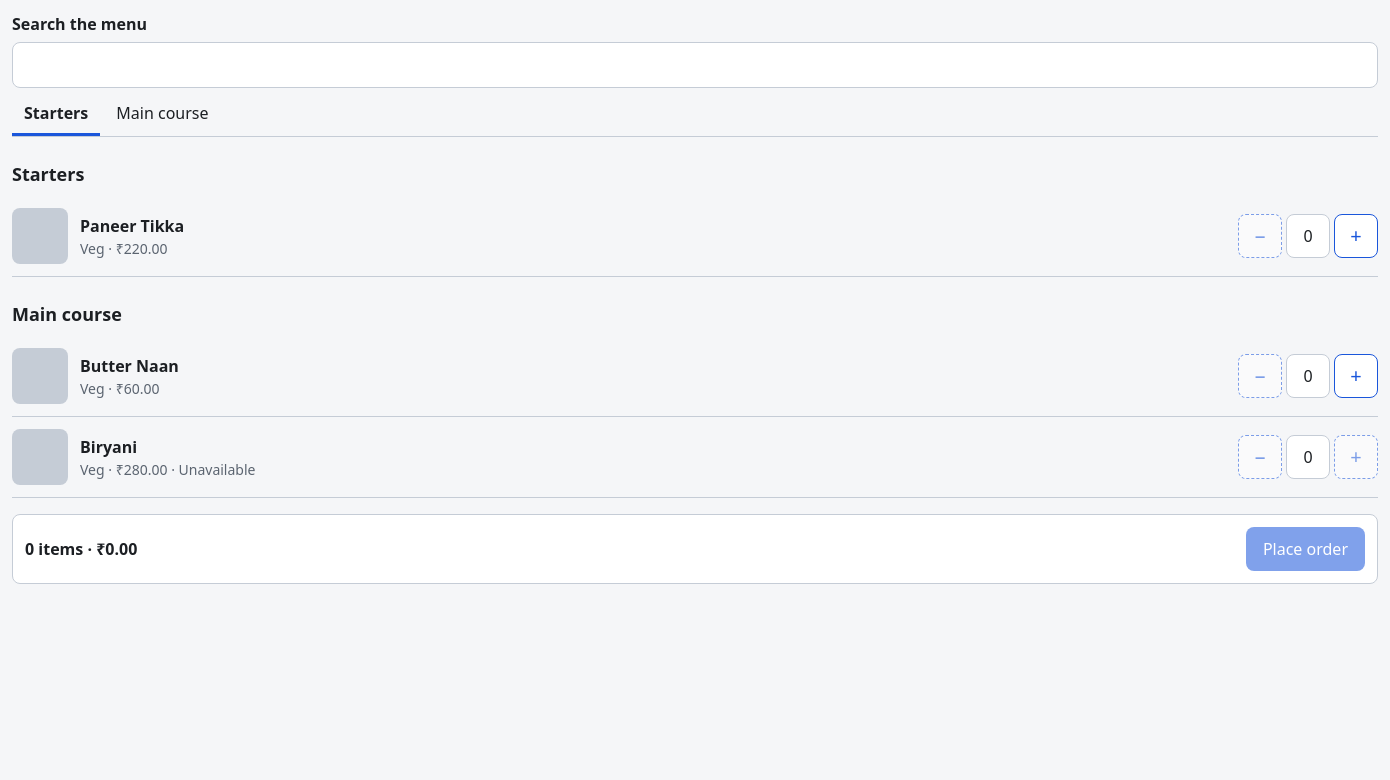
Scenario: RestaurantPage: the quantity field › sets the quantity the user types
Replace the text in the field named "Number of Butter Naan" with "4" at (1308, 376), box [1286,354,1330,398]
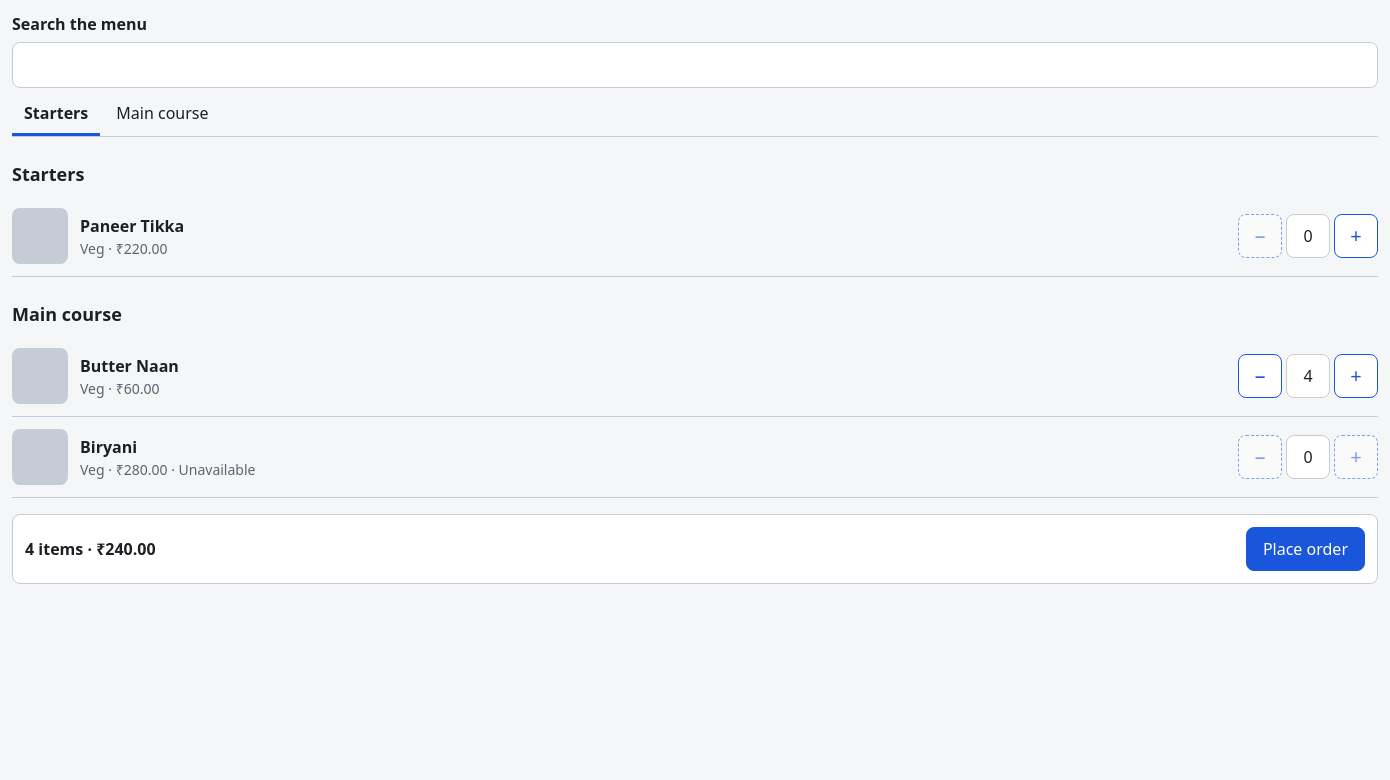
Expected: the text "4 items · ₹240.00" is shown, [25,537,156,561]
